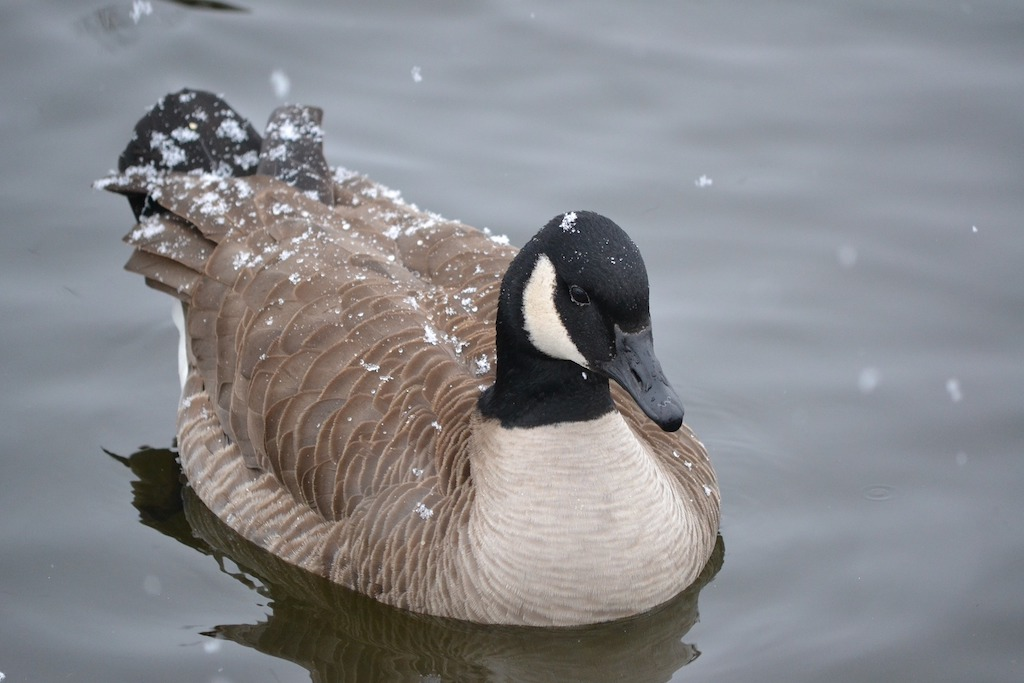goose: (95, 90, 725, 633)
